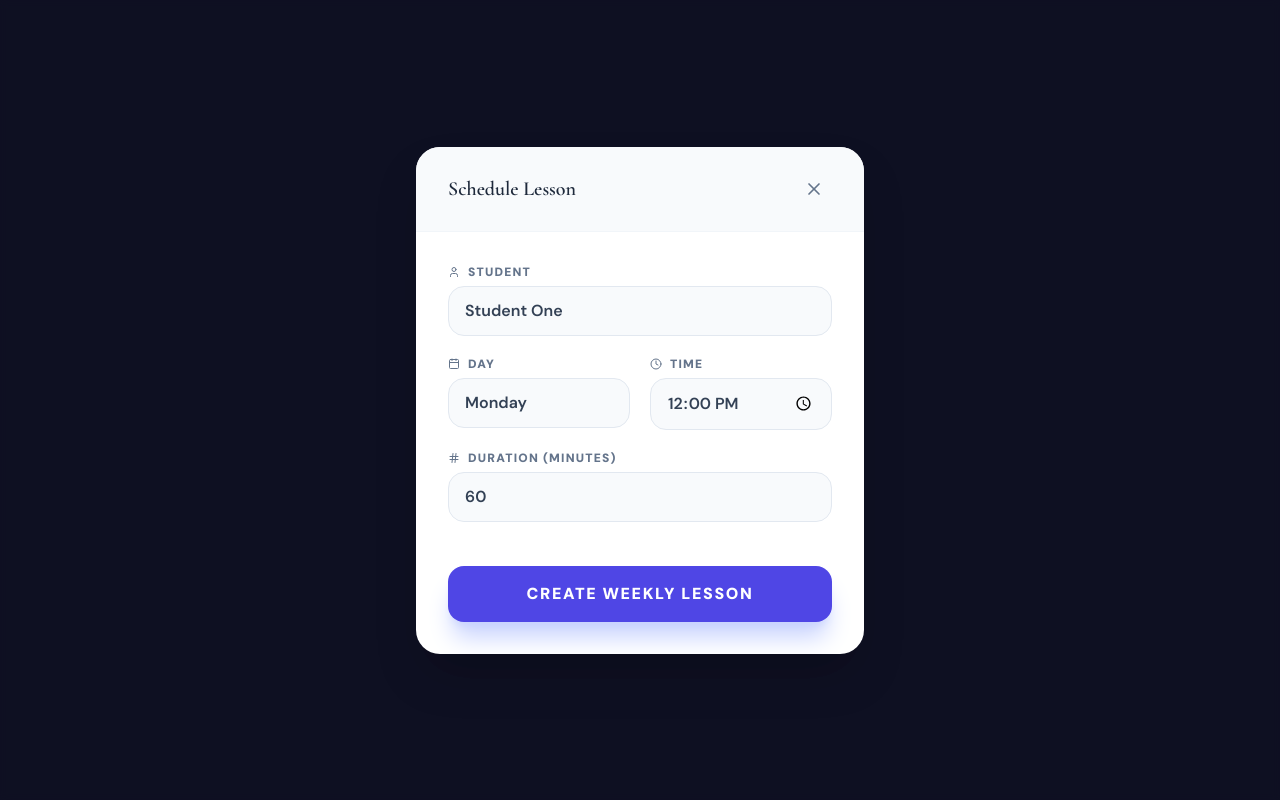
Test: AddLessonModal › shows error on API failure
The width and height of the screenshot is (1280, 800).
Click the button "Create Weekly Lesson".
click(640, 594)  # box [448,566,832,622]
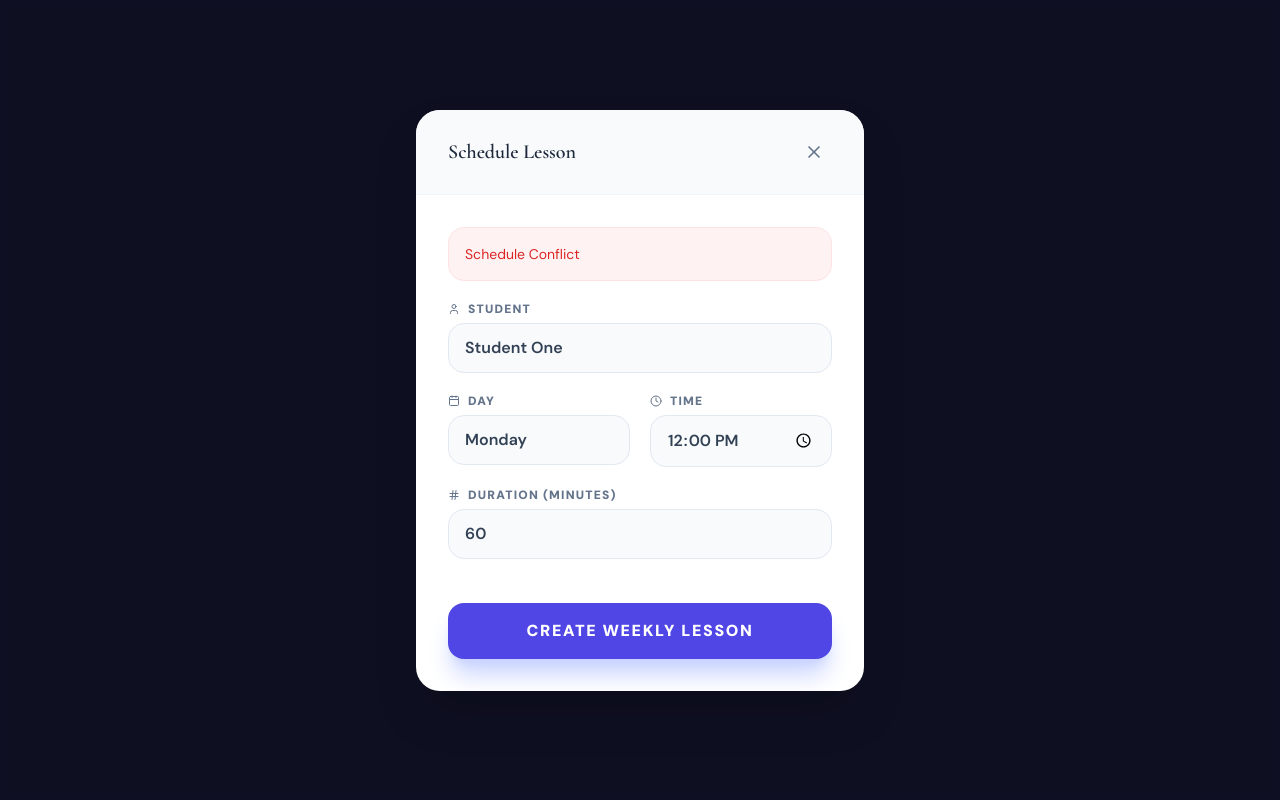
expect the text "Schedule Conflict" is shown: met, box [448,226,832,280]
